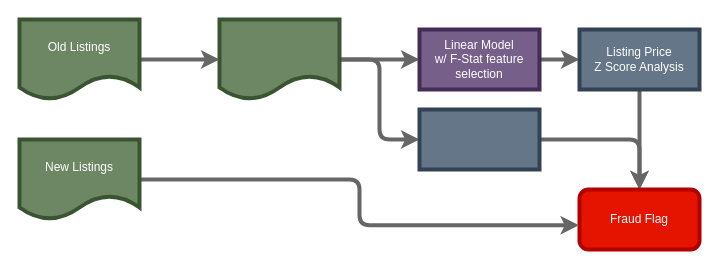
Some shapes in this 718 by 268 pixel diagram are drawn without their labels. The shapes that lost their labels are listed below. From the top down, each one's centre as x and y in pixels, then its label:
[279,59]: Building Type
[479,139]: Move In Date Z Score Analysis
